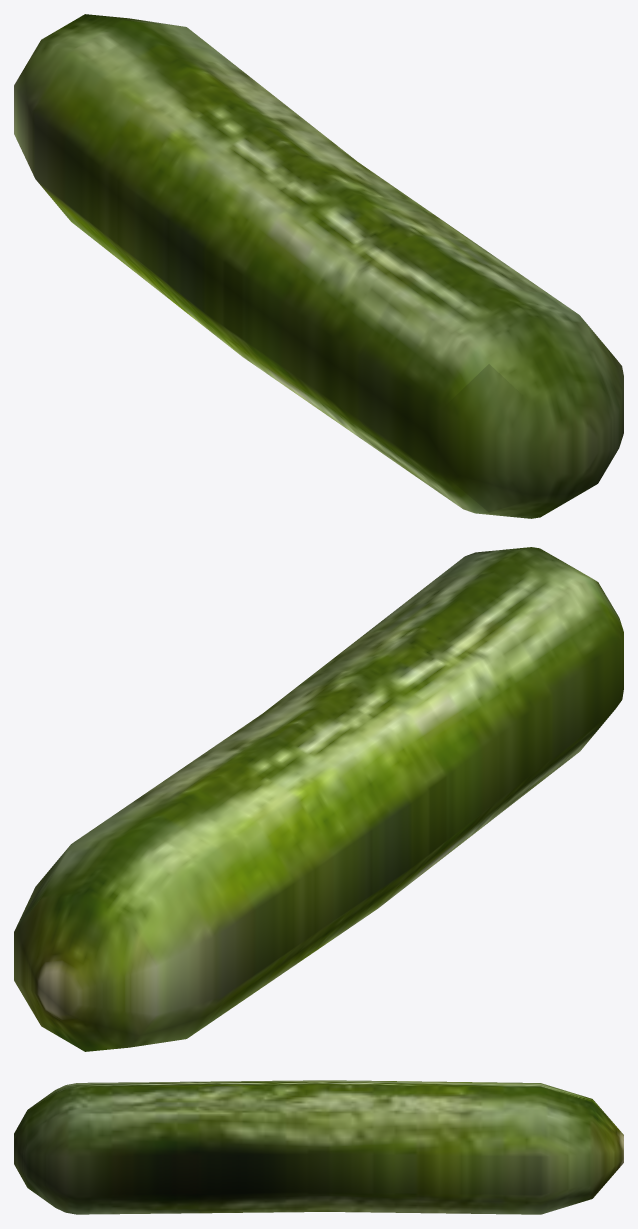
Rendered from cucumber.dae.
The picture shows the model from 3 angles, top to bottom: view 1: azimuth 30°, elevation 25°; view 2: azimuth 150°, elevation 25°; view 3: azimuth 270°, elevation 25°; orthographic projection. The views are drawn at different scales.
Visible parts, largest first — view 1: group_1; view 2: group_1; view 3: group_1.
Part boxes in pixels (bbox=[...]): group_1: bbox=[14, 14, 623, 518]; group_1: bbox=[14, 547, 623, 1051]; group_1: bbox=[14, 1080, 623, 1214].
Bounding box in the file's own units: 1.25 × 5.68 × 1.25.
Materials: 1 (1 with a texture image).
